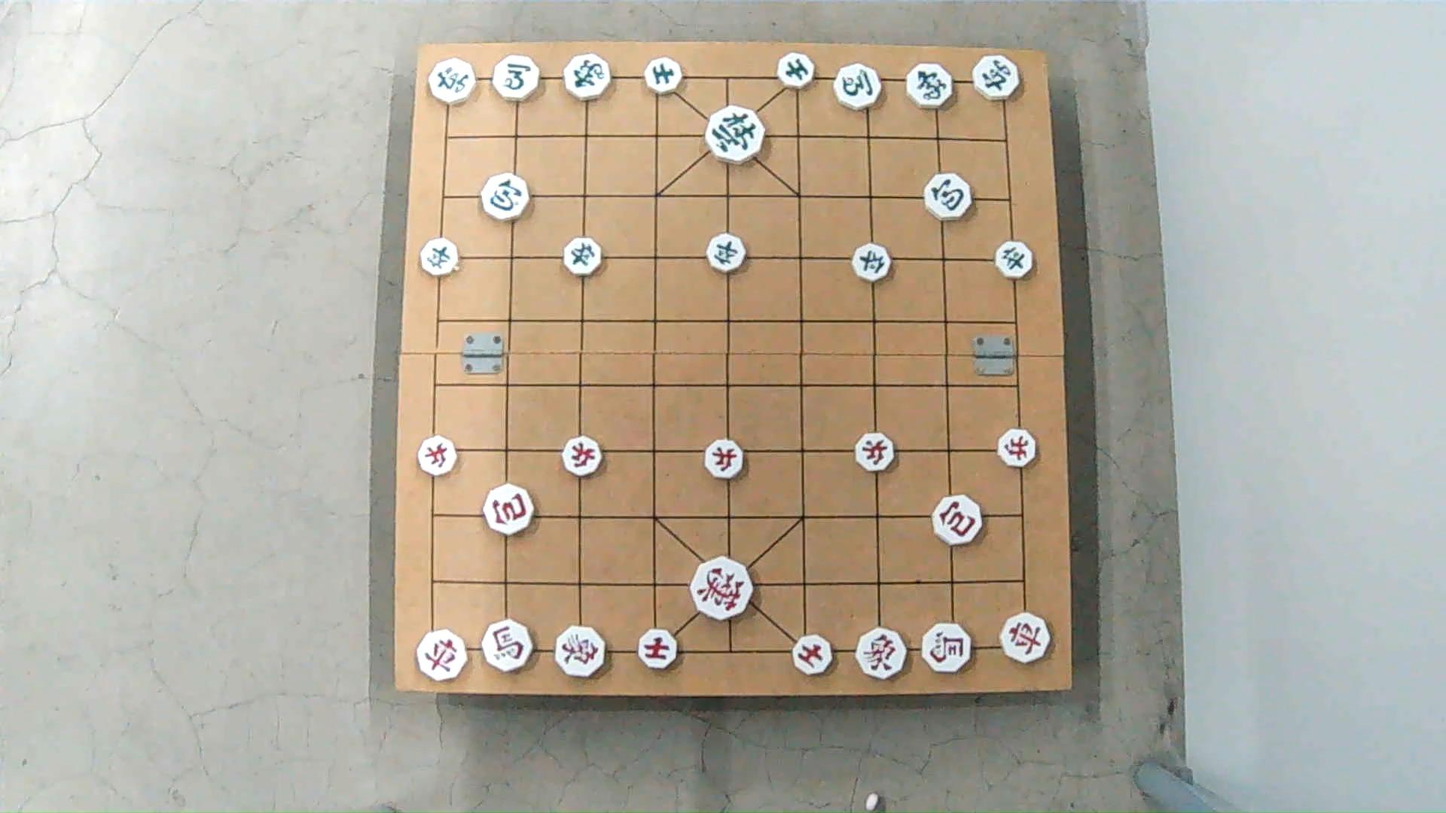cha_green: (974, 56, 1023, 101), (429, 59, 475, 103)
cha_red: (414, 627, 470, 683), (996, 610, 1054, 662)
jol_green: (706, 234, 748, 271), (853, 247, 894, 283), (422, 242, 463, 277), (996, 244, 1036, 279), (562, 238, 602, 273)
jol_red: (415, 438, 457, 476), (560, 439, 602, 477), (704, 441, 745, 479), (856, 435, 897, 472), (998, 431, 1039, 467)
ma_green: (831, 65, 883, 108), (490, 58, 539, 101)
ma_red: (920, 625, 974, 673), (482, 623, 534, 672)
po_green: (923, 173, 972, 221), (480, 174, 529, 220)
po_red: (482, 486, 533, 534), (932, 499, 984, 544)
sa_green: (642, 59, 683, 94), (777, 53, 816, 87)
sa_red: (636, 629, 680, 672), (790, 635, 836, 675)
sang_green: (564, 56, 615, 100), (907, 62, 952, 108)
sang_red: (854, 626, 912, 680), (553, 627, 610, 675)
wang_green: (706, 108, 767, 162)
wang_red: (690, 560, 753, 619)
